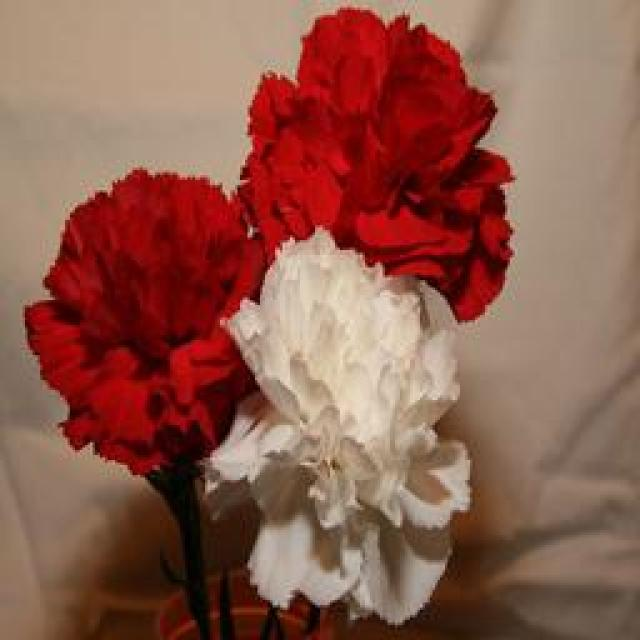carnation: (236, 226, 495, 632)
